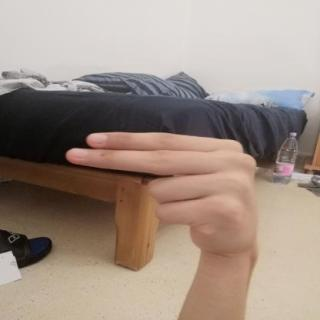AYN: (52, 116, 272, 262)
